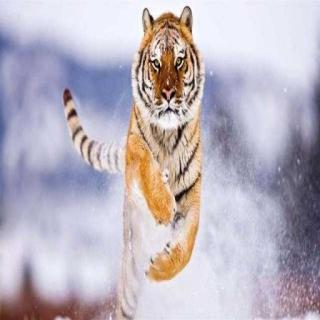Tiger: (63, 3, 233, 320)
